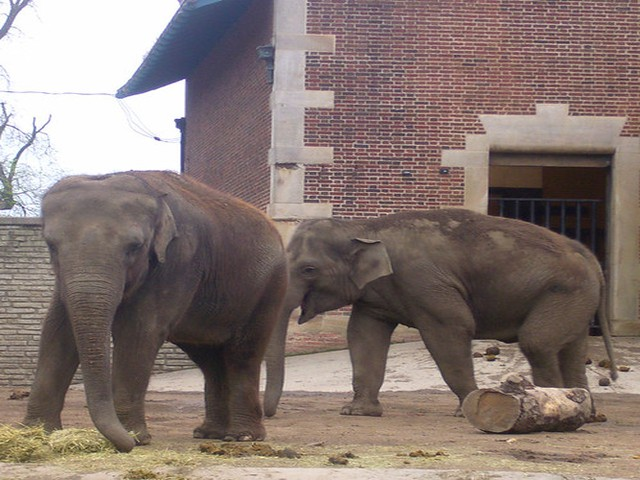Elephant: (26, 167, 288, 451), (288, 207, 631, 414)
